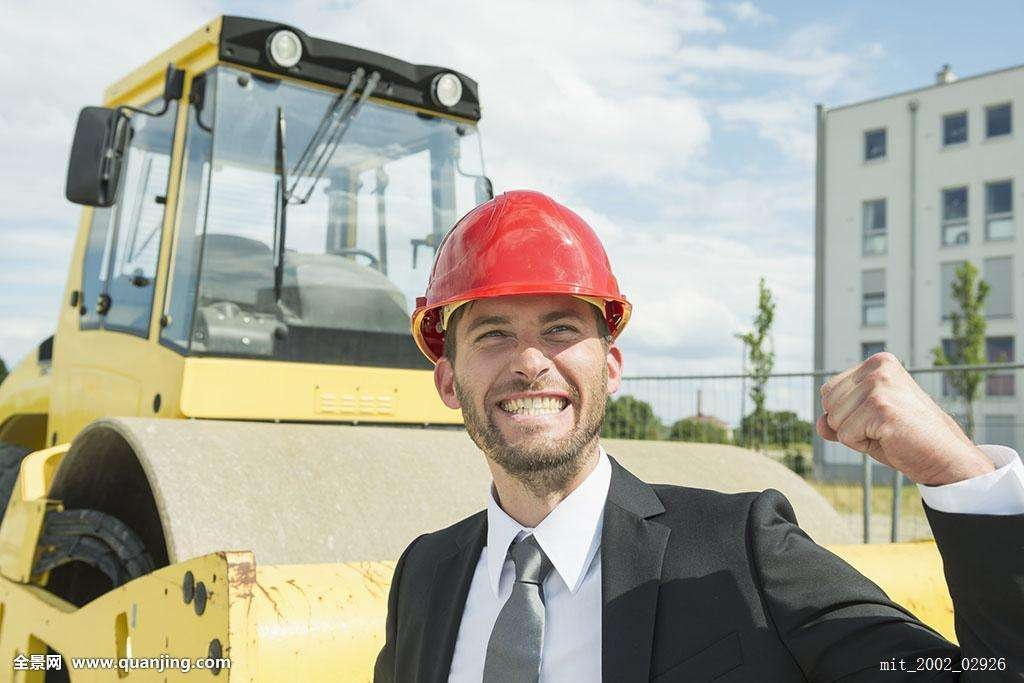red: (406, 176, 637, 488)
